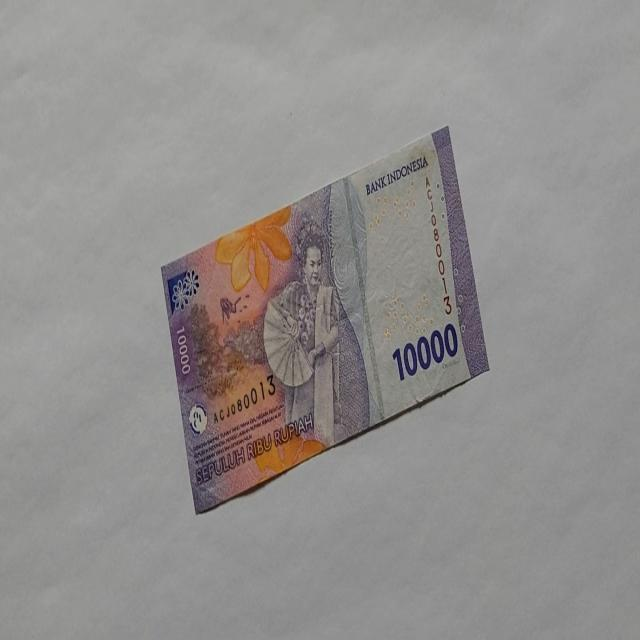sepuluh ribu rupiah: (160, 123, 490, 514), (390, 321, 460, 382), (363, 152, 429, 196)
